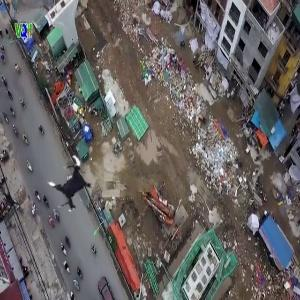drone: (40, 154, 101, 215)
